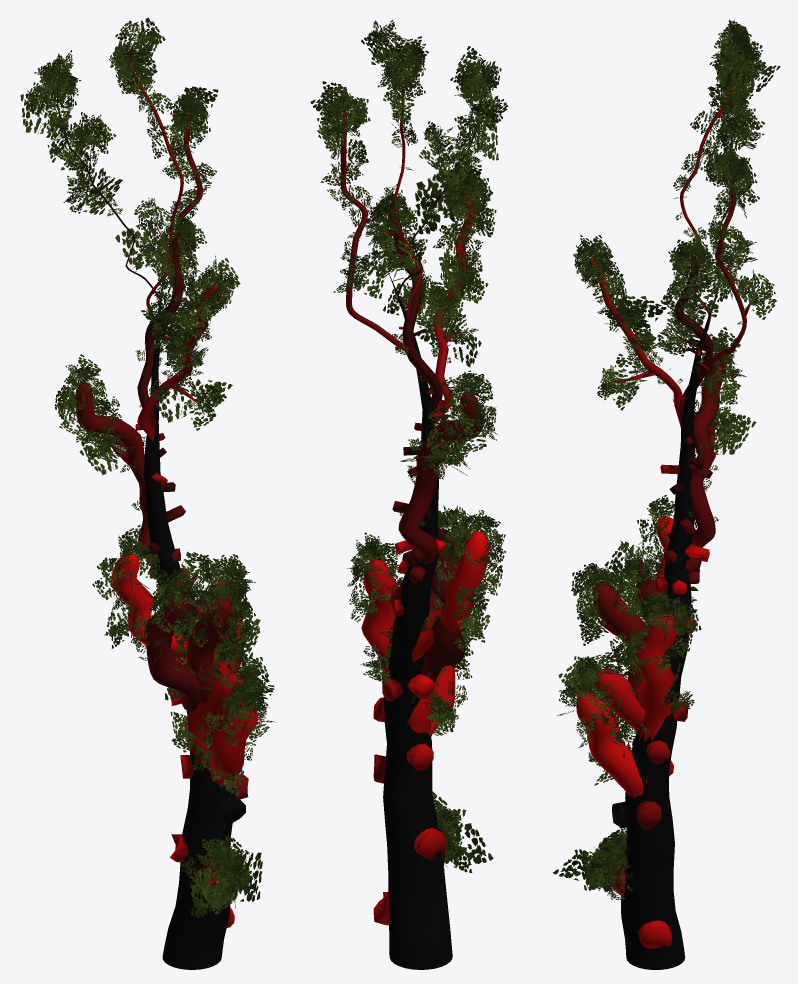
File: Tree_18.fbx
The picture shows the model from 3 angles, left to right: view 1: azimuth 30°, elevation 25°; view 2: azimuth 150°, elevation 25°; view 3: azimuth 270°, elevation 25°; orthographic projection. The views are drawn at different scales.
Parts seen in each view (by area): view 1: Tree_28; view 2: Tree_28; view 3: Tree_28.
Boxes of the visible parts, x1=… form: Tree_28: x1=20, y1=17, x2=275, y2=969; Tree_28: x1=310, y1=20, x2=507, y2=969; Tree_28: x1=553, y1=19, x2=780, y2=969.
Size of the model in its own units: 818 by 3732 by 880.
